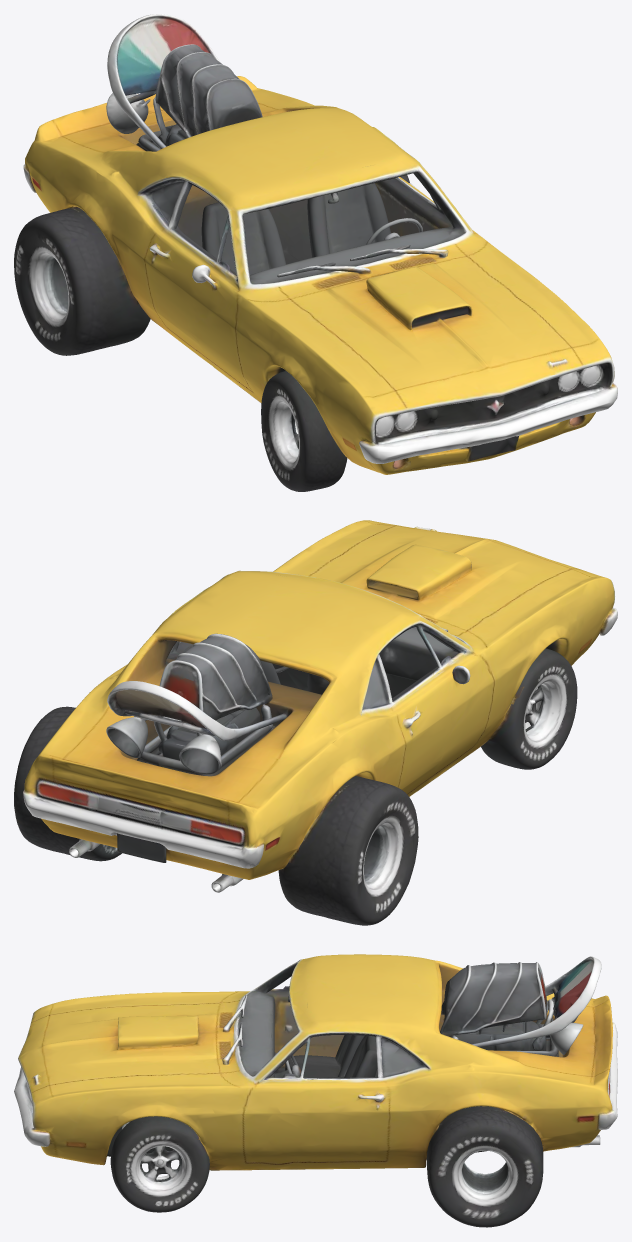
File: 079_dragster_yellow.glb
3 renders of one model, top to bottom at view 1: azimuth 30°, elevation 25°; view 2: azimuth 150°, elevation 25°; view 3: azimuth 270°, elevation 25°, orthographic. The views are drawn at different scales.
Parts seen in each view (by area): view 1: geometry_0; view 2: geometry_0; view 3: geometry_0.
Boxes of the visible parts, box(x1,y1,x2,y2) form: geometry_0: box(14, 14, 617, 491); geometry_0: box(14, 520, 617, 925); geometry_0: box(14, 954, 617, 1227).
Size of the model in its own units: 2.89 by 1.99 by 5.4.
Materials: 1 (1 with a texture image).
